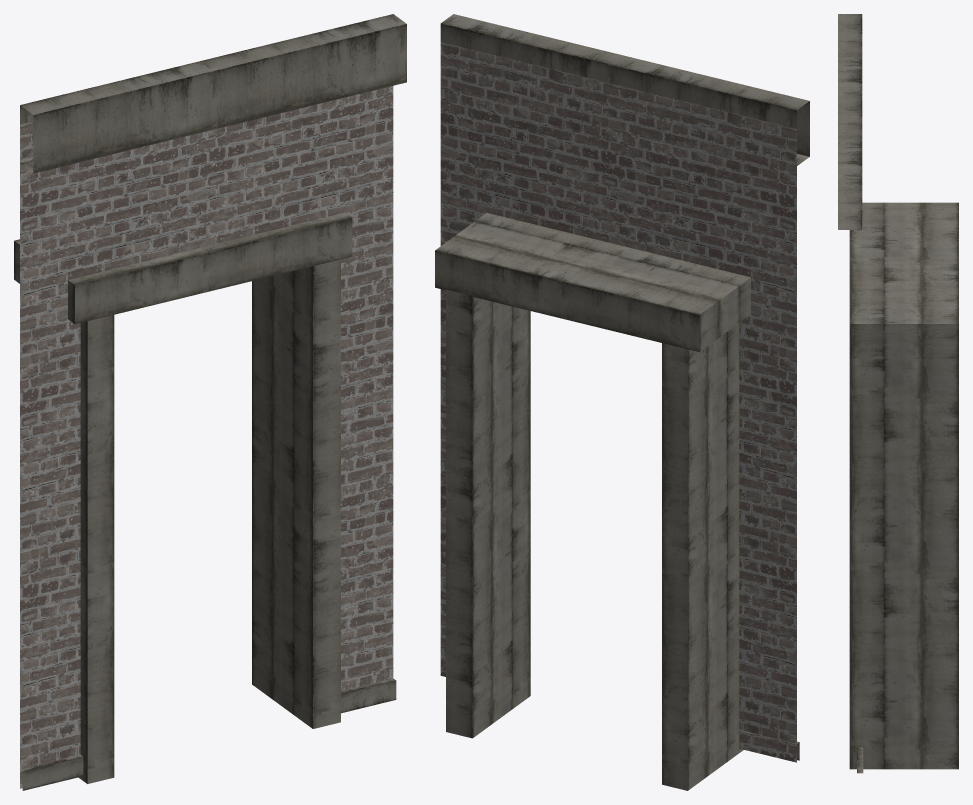
File: W_A_DoorOpen_2x.FBX
3 views of the same model, side by side, from view 1: azimuth 30°, elevation 25°; view 2: azimuth 150°, elevation 25°; view 3: azimuth 270°, elevation 25° (orthographic). The views are drawn at different scales.
Parts seen in each view (by area): view 1: W_A_DoorOpen_2x; view 2: W_A_DoorOpen_2x; view 3: W_A_DoorOpen_2x.
Part boxes in pixels (x1,y1,x2,y2): W_A_DoorOpen_2x: [14, 14, 406, 790]; W_A_DoorOpen_2x: [435, 14, 809, 790]; W_A_DoorOpen_2x: [838, 14, 958, 773].
Size of the model in its own units: 200 by 353 by 62.49.
